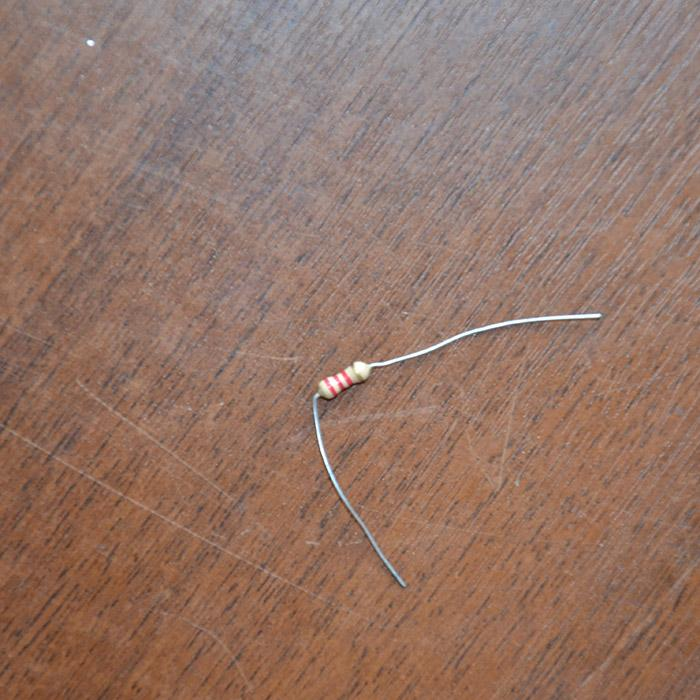resistor: (317, 360, 371, 399)
